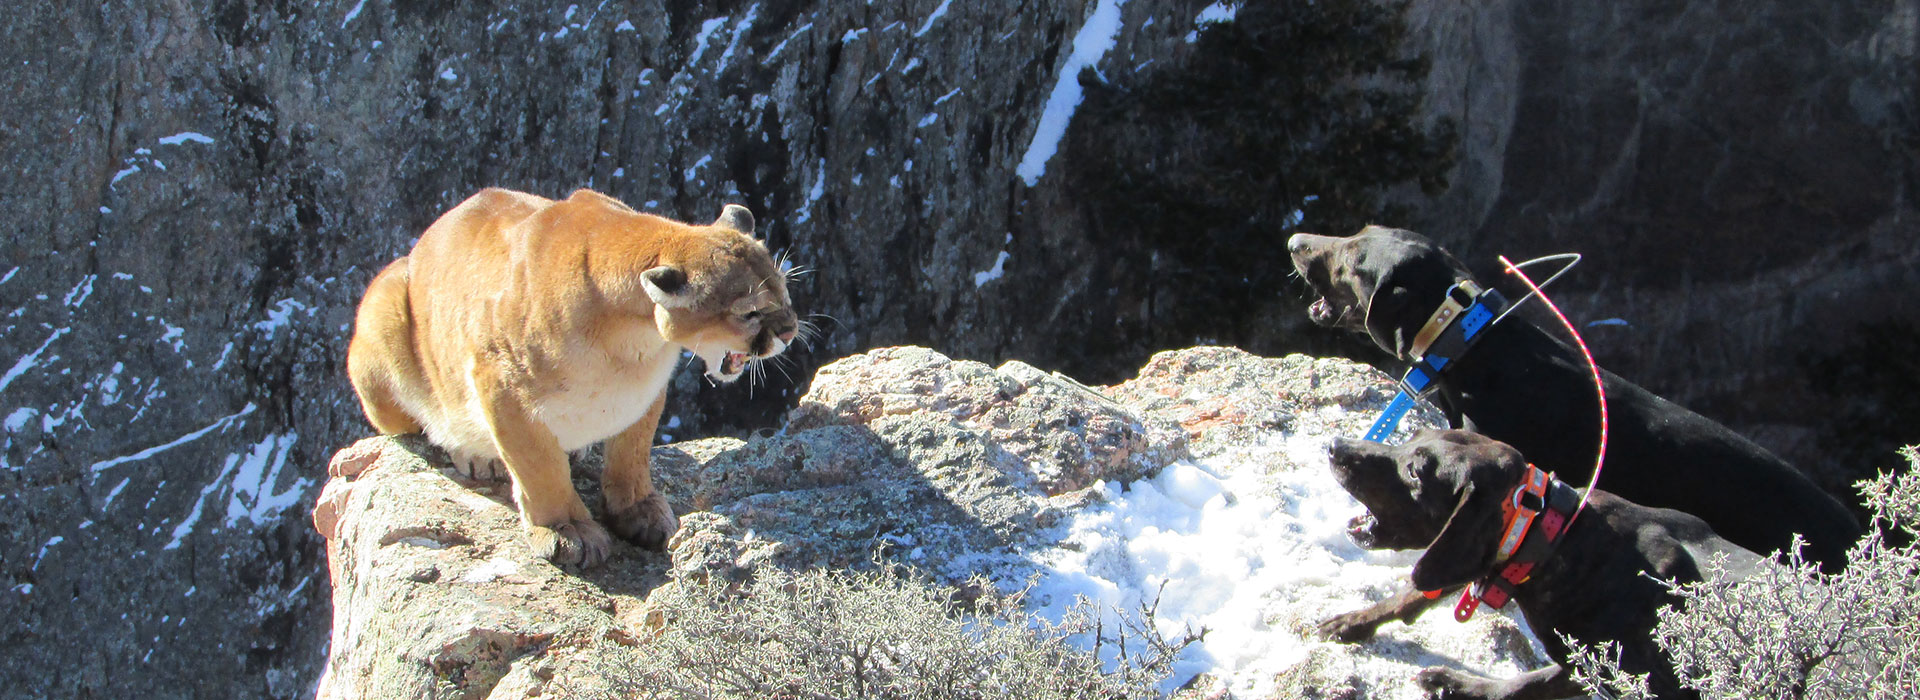dog: (1278, 219, 1893, 592), (1314, 430, 1731, 700)
lion: (342, 184, 811, 562)
